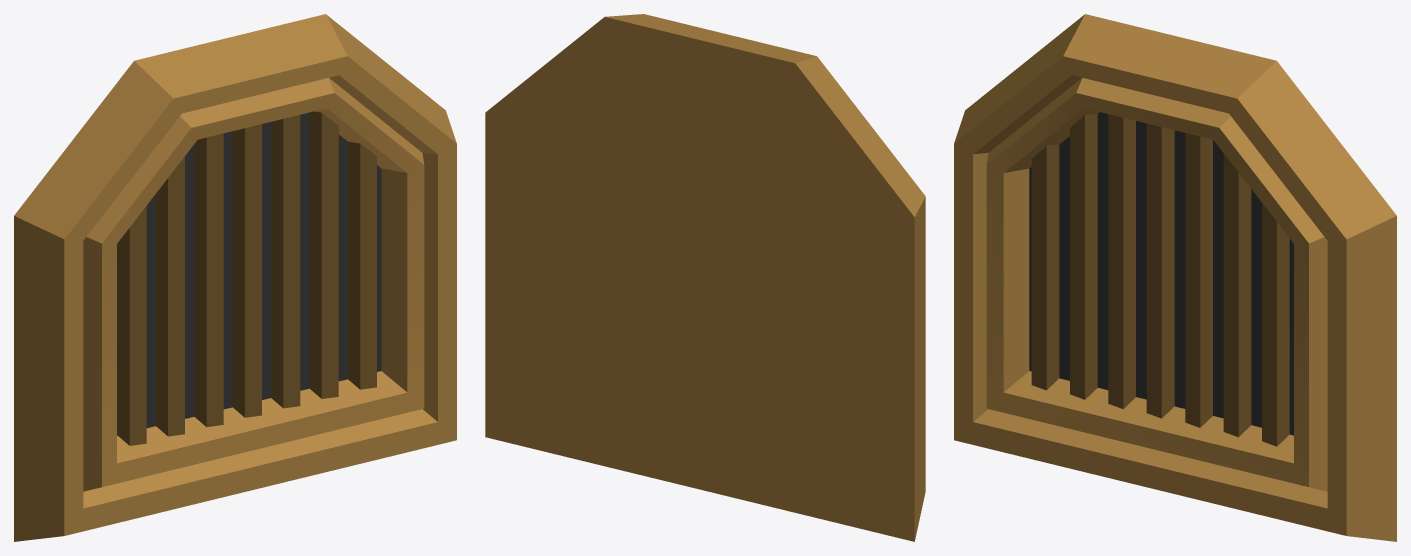
Rendered from Details_Vent_2.glb.
3 renders of one model, left to right at view 1: azimuth 30°, elevation 25°; view 2: azimuth 150°, elevation 25°; view 3: azimuth 330°, elevation 25°, orthographic.
Visible parts, largest first — view 1: Accent, DarkAccent, Black; view 2: Accent; view 3: Accent, DarkAccent, Black.
Boxes of the visible parts, <box> form: Accent: <box>14,14,456,541</box>; DarkAccent: <box>117,111,376,445</box>; Black: <box>117,112,381,435</box>; Accent: <box>485,14,925,541</box>; Accent: <box>954,14,1396,541</box>; DarkAccent: <box>1031,113,1289,446</box>; Black: <box>1029,112,1293,435</box>.
Size of the model in its own units: 0.3099 by 0.3099 by 0.0413.
